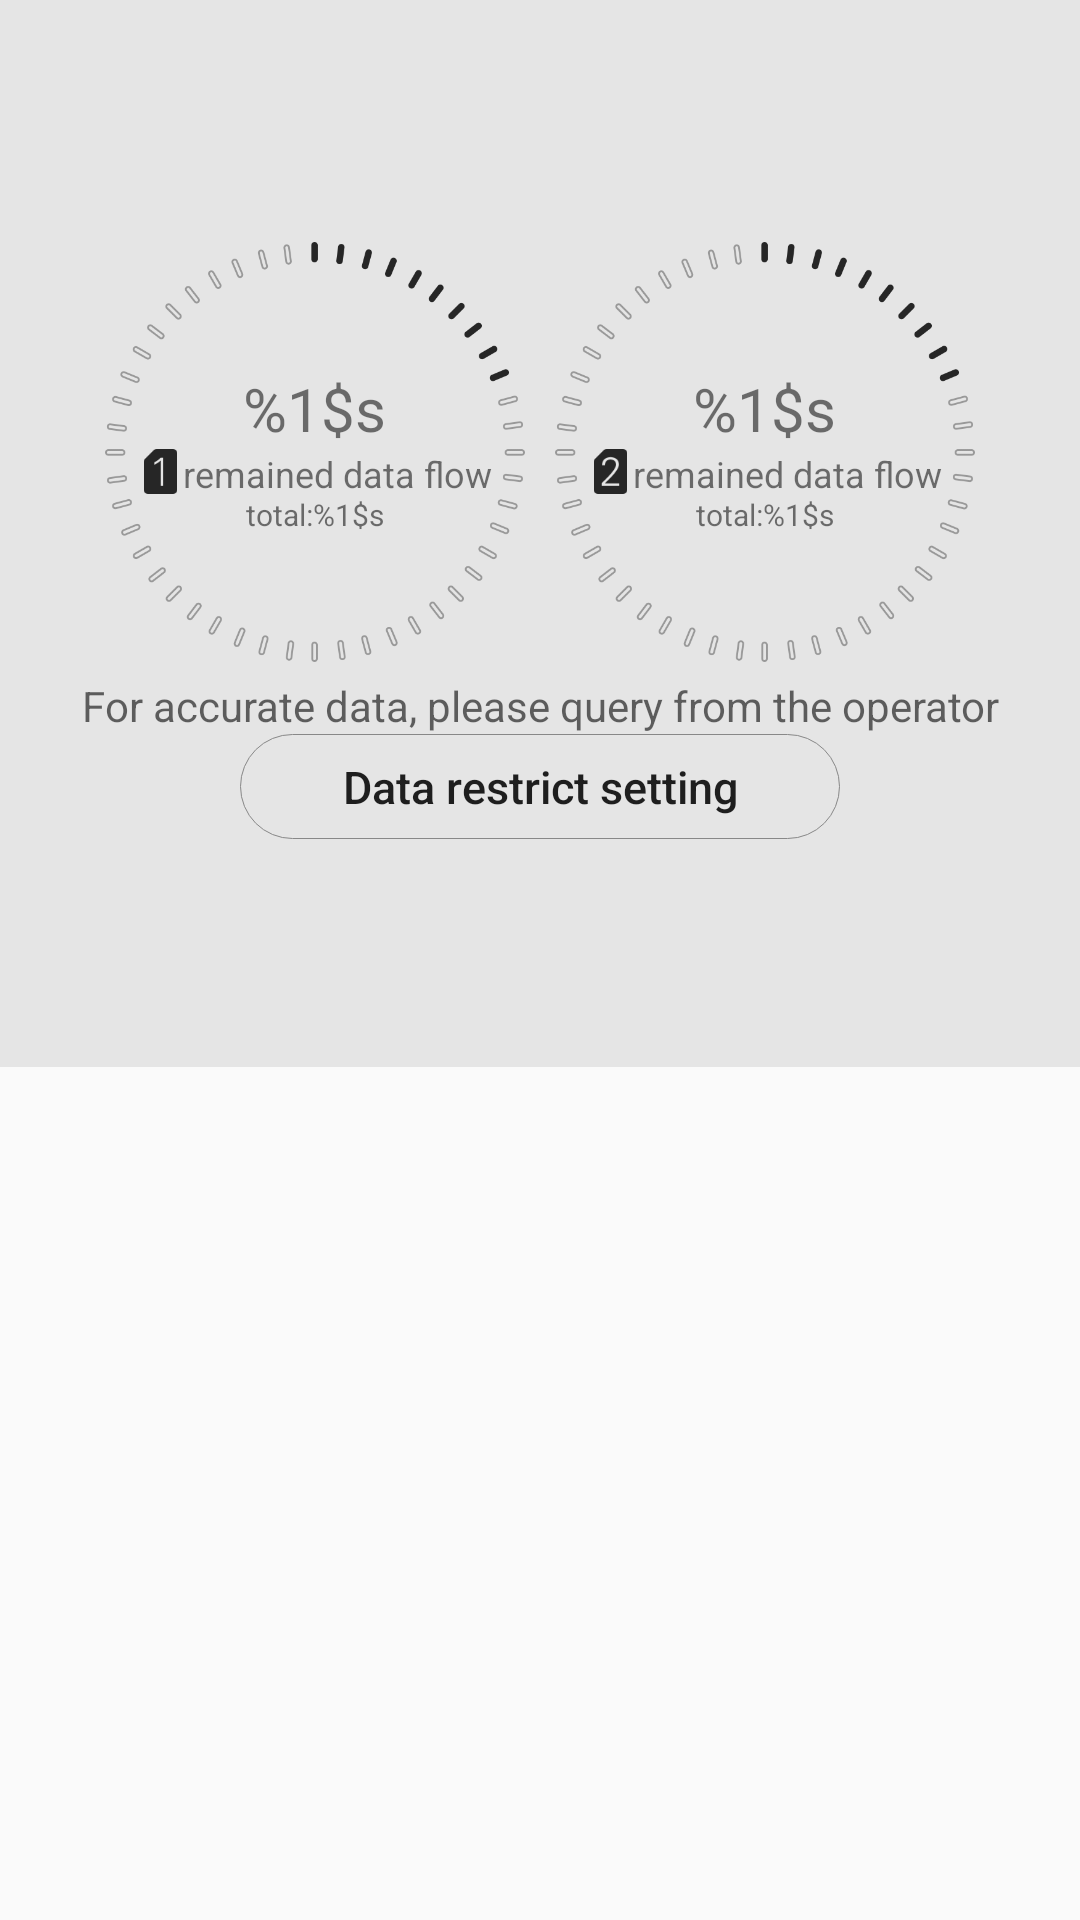

Named icons in this screenshot (1080*1920) and their bounding boxes, (x1, y1, x2, y2):
sim card: (144, 449, 177, 494), (594, 449, 627, 494)
